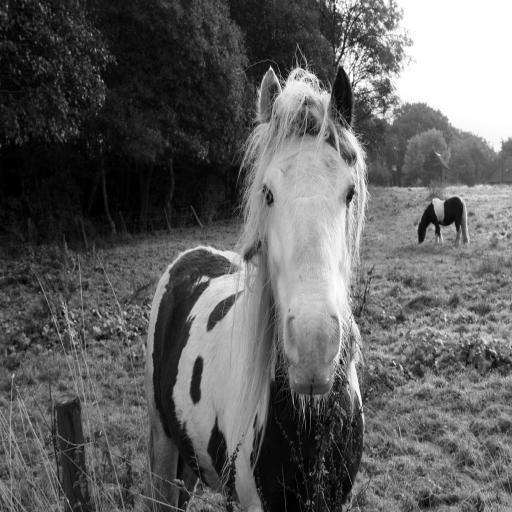horse: (142, 42, 370, 512), (416, 197, 470, 246)
